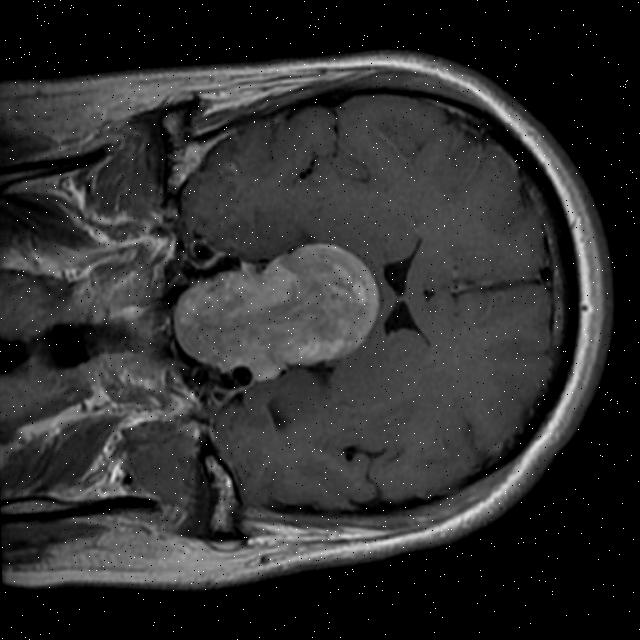Pituitary: (168, 240, 382, 372)
